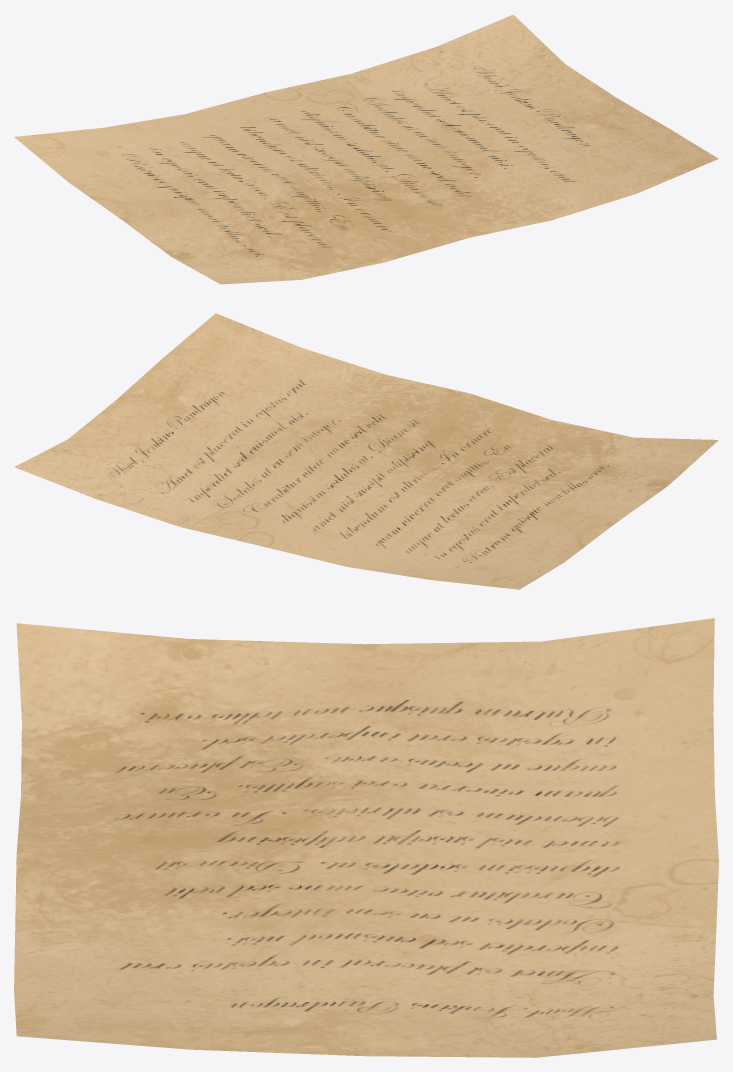
Rendered from SM_Letter_02.fbx.
3 views of the same model, one above another, from view 1: azimuth 30°, elevation 25°; view 2: azimuth 150°, elevation 25°; view 3: azimuth 270°, elevation 25° (orthographic). The views are drawn at different scales.
Visible parts, largest first — view 1: SM_Letter_02_LOD0; view 2: SM_Letter_02_LOD0; view 3: SM_Letter_02_LOD0.
Boxes of the visible parts, x1=… form: SM_Letter_02_LOD0: x1=14, y1=14, x2=718, y2=284; SM_Letter_02_LOD0: x1=14, y1=313, x2=718, y2=589; SM_Letter_02_LOD0: x1=14, y1=618, x2=718, y2=1057.
Size of the model in its own units: 37.08 by 26.01 by 1.63.
